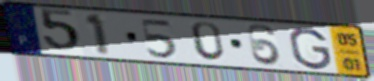0: (188, 20, 227, 63)
1: (83, 13, 115, 57)
5: (36, 7, 83, 56), (138, 17, 179, 60)
6: (246, 23, 283, 69)
G: (287, 26, 334, 71)
